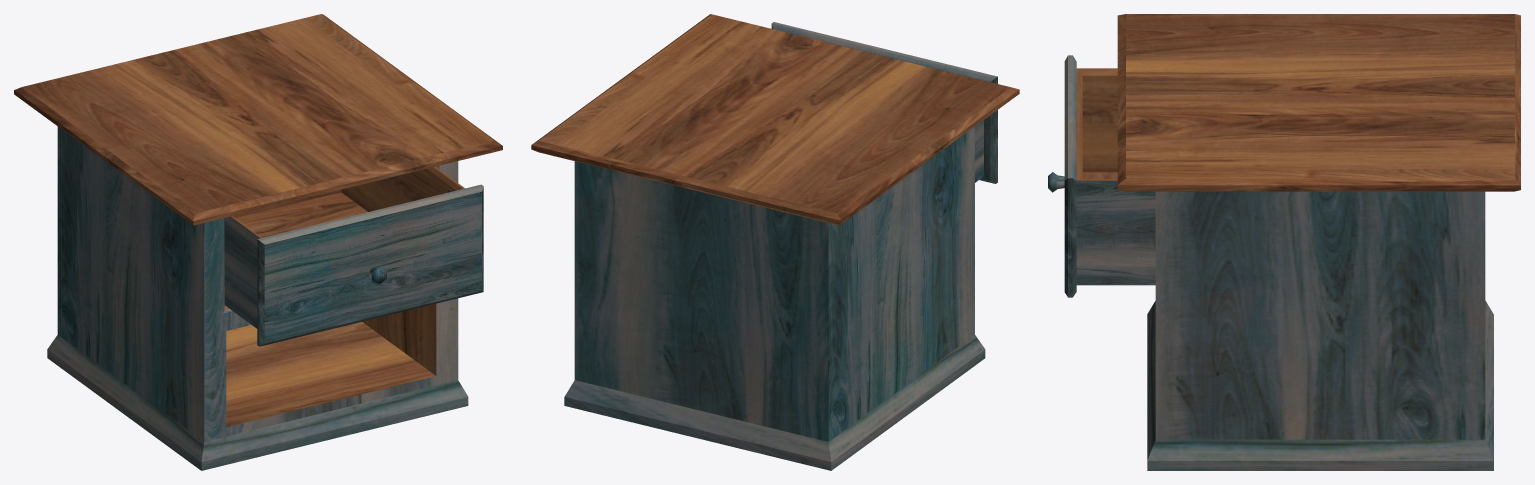
Rendered from Keukenkastje met laatje.fbx.
3 views of the same model, side by side, from view 1: azimuth 30°, elevation 25°; view 2: azimuth 150°, elevation 25°; view 3: azimuth 270°, elevation 25° (orthographic). The views are drawn at different scales.
Parts seen in each view (by area): view 1: kastje_lades, lade; view 2: kastje_lades, lade; view 3: kastje_lades, lade.
Part boxes in pixels (bbox=[...]): kastje_lades: bbox=[14, 14, 502, 470]; lade: bbox=[224, 166, 483, 346]; kastje_lades: bbox=[531, 14, 1019, 470]; lade: bbox=[771, 22, 997, 183]; kastje_lades: bbox=[1117, 14, 1520, 470]; lade: bbox=[1048, 55, 1155, 297].
Size of the model in its own units: 4.55 by 3.76 by 5.35.
1 material, 1 textured.
